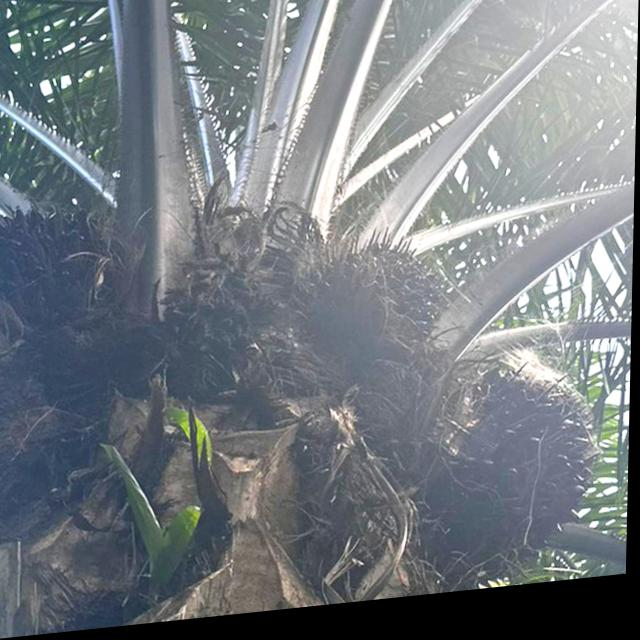unripe: (319, 224, 456, 386)
